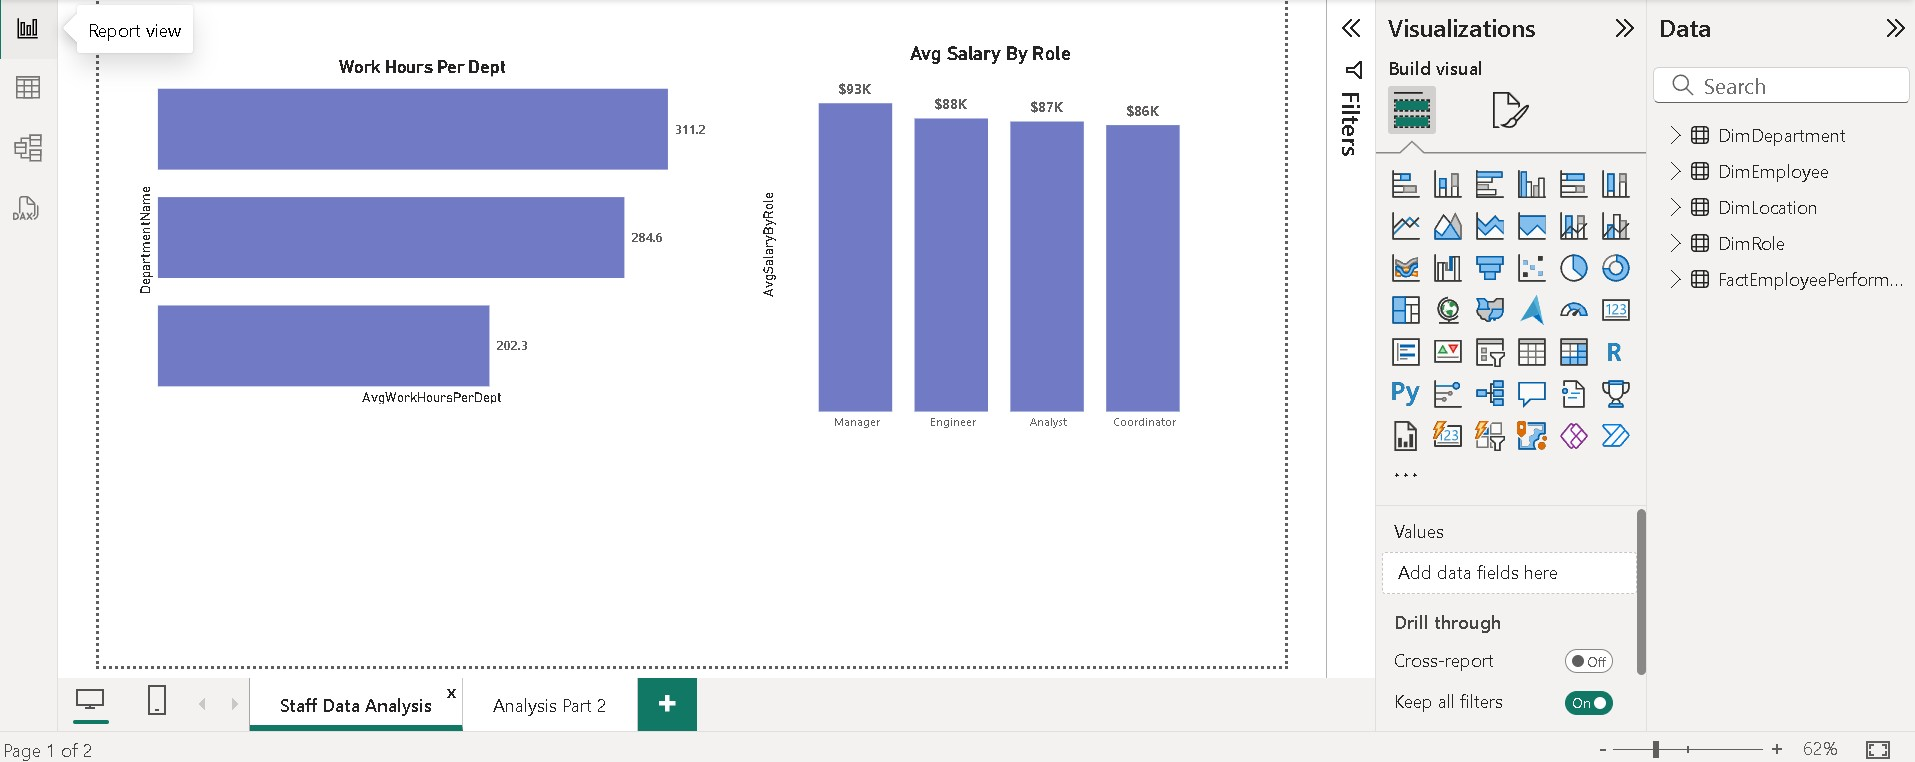

Layout of this report page (visuals, bound fields, positions):
{"tool":"powerbi","page":{"name":"Staff Data Analysis","canvas":[1280,720],"ordinal":0},"visuals":[{"type":"barChart","title":"Work Hours Per Dept","fields":{"Category":["DimDepartment.DepartmentName"],"Y":["FactEmployeePerformance.AvgWorkHoursPerDept"]},"box":[37.2,61.5,623.4,380.5],"z":0},{"type":"columnChart","title":"Avg Salary By Role","fields":{"Y":["FactEmployeePerformance.AvgSalaryByRole"],"Category":["DimRole.RoleName"]},"box":[709.2,47,506.8,429.1],"z":1000}]}

Visuals, with their boxes on the page's 1280x720 design canvas (x1, y1, x2, y2). These are canvas units, not pixel positions in the 1915x762 screenshot, which may show the page scaled, cropped or inside an application window:
"Work Hours Per Dept" barChart: [x1=37, y1=62, x2=661, y2=442]
"Avg Salary By Role" columnChart: [x1=709, y1=47, x2=1216, y2=476]
